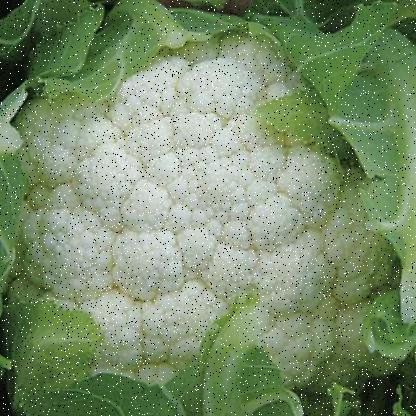cauliflower: (11, 25, 402, 385)
